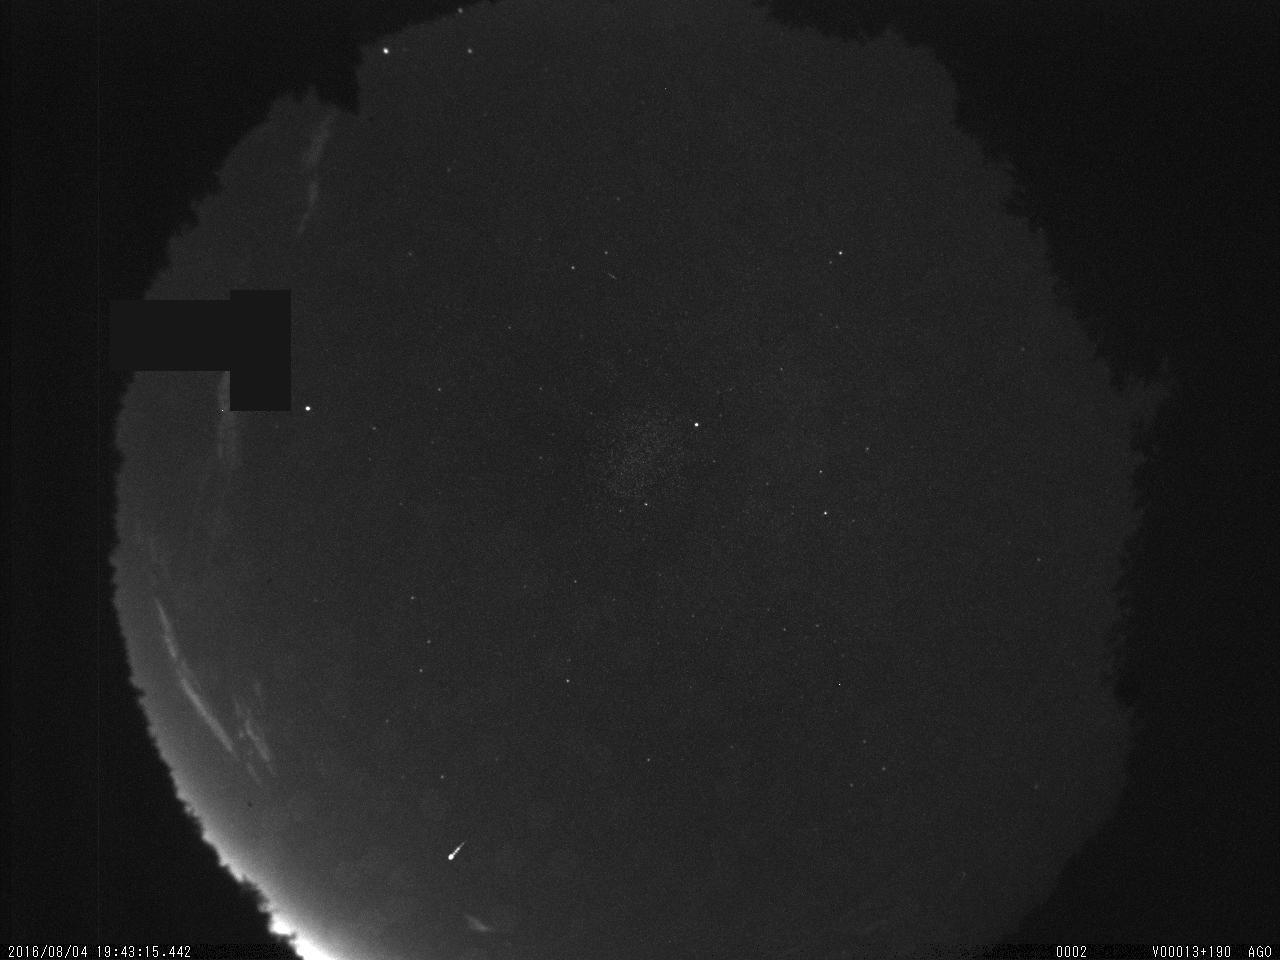meteor: (428, 821, 489, 874)
